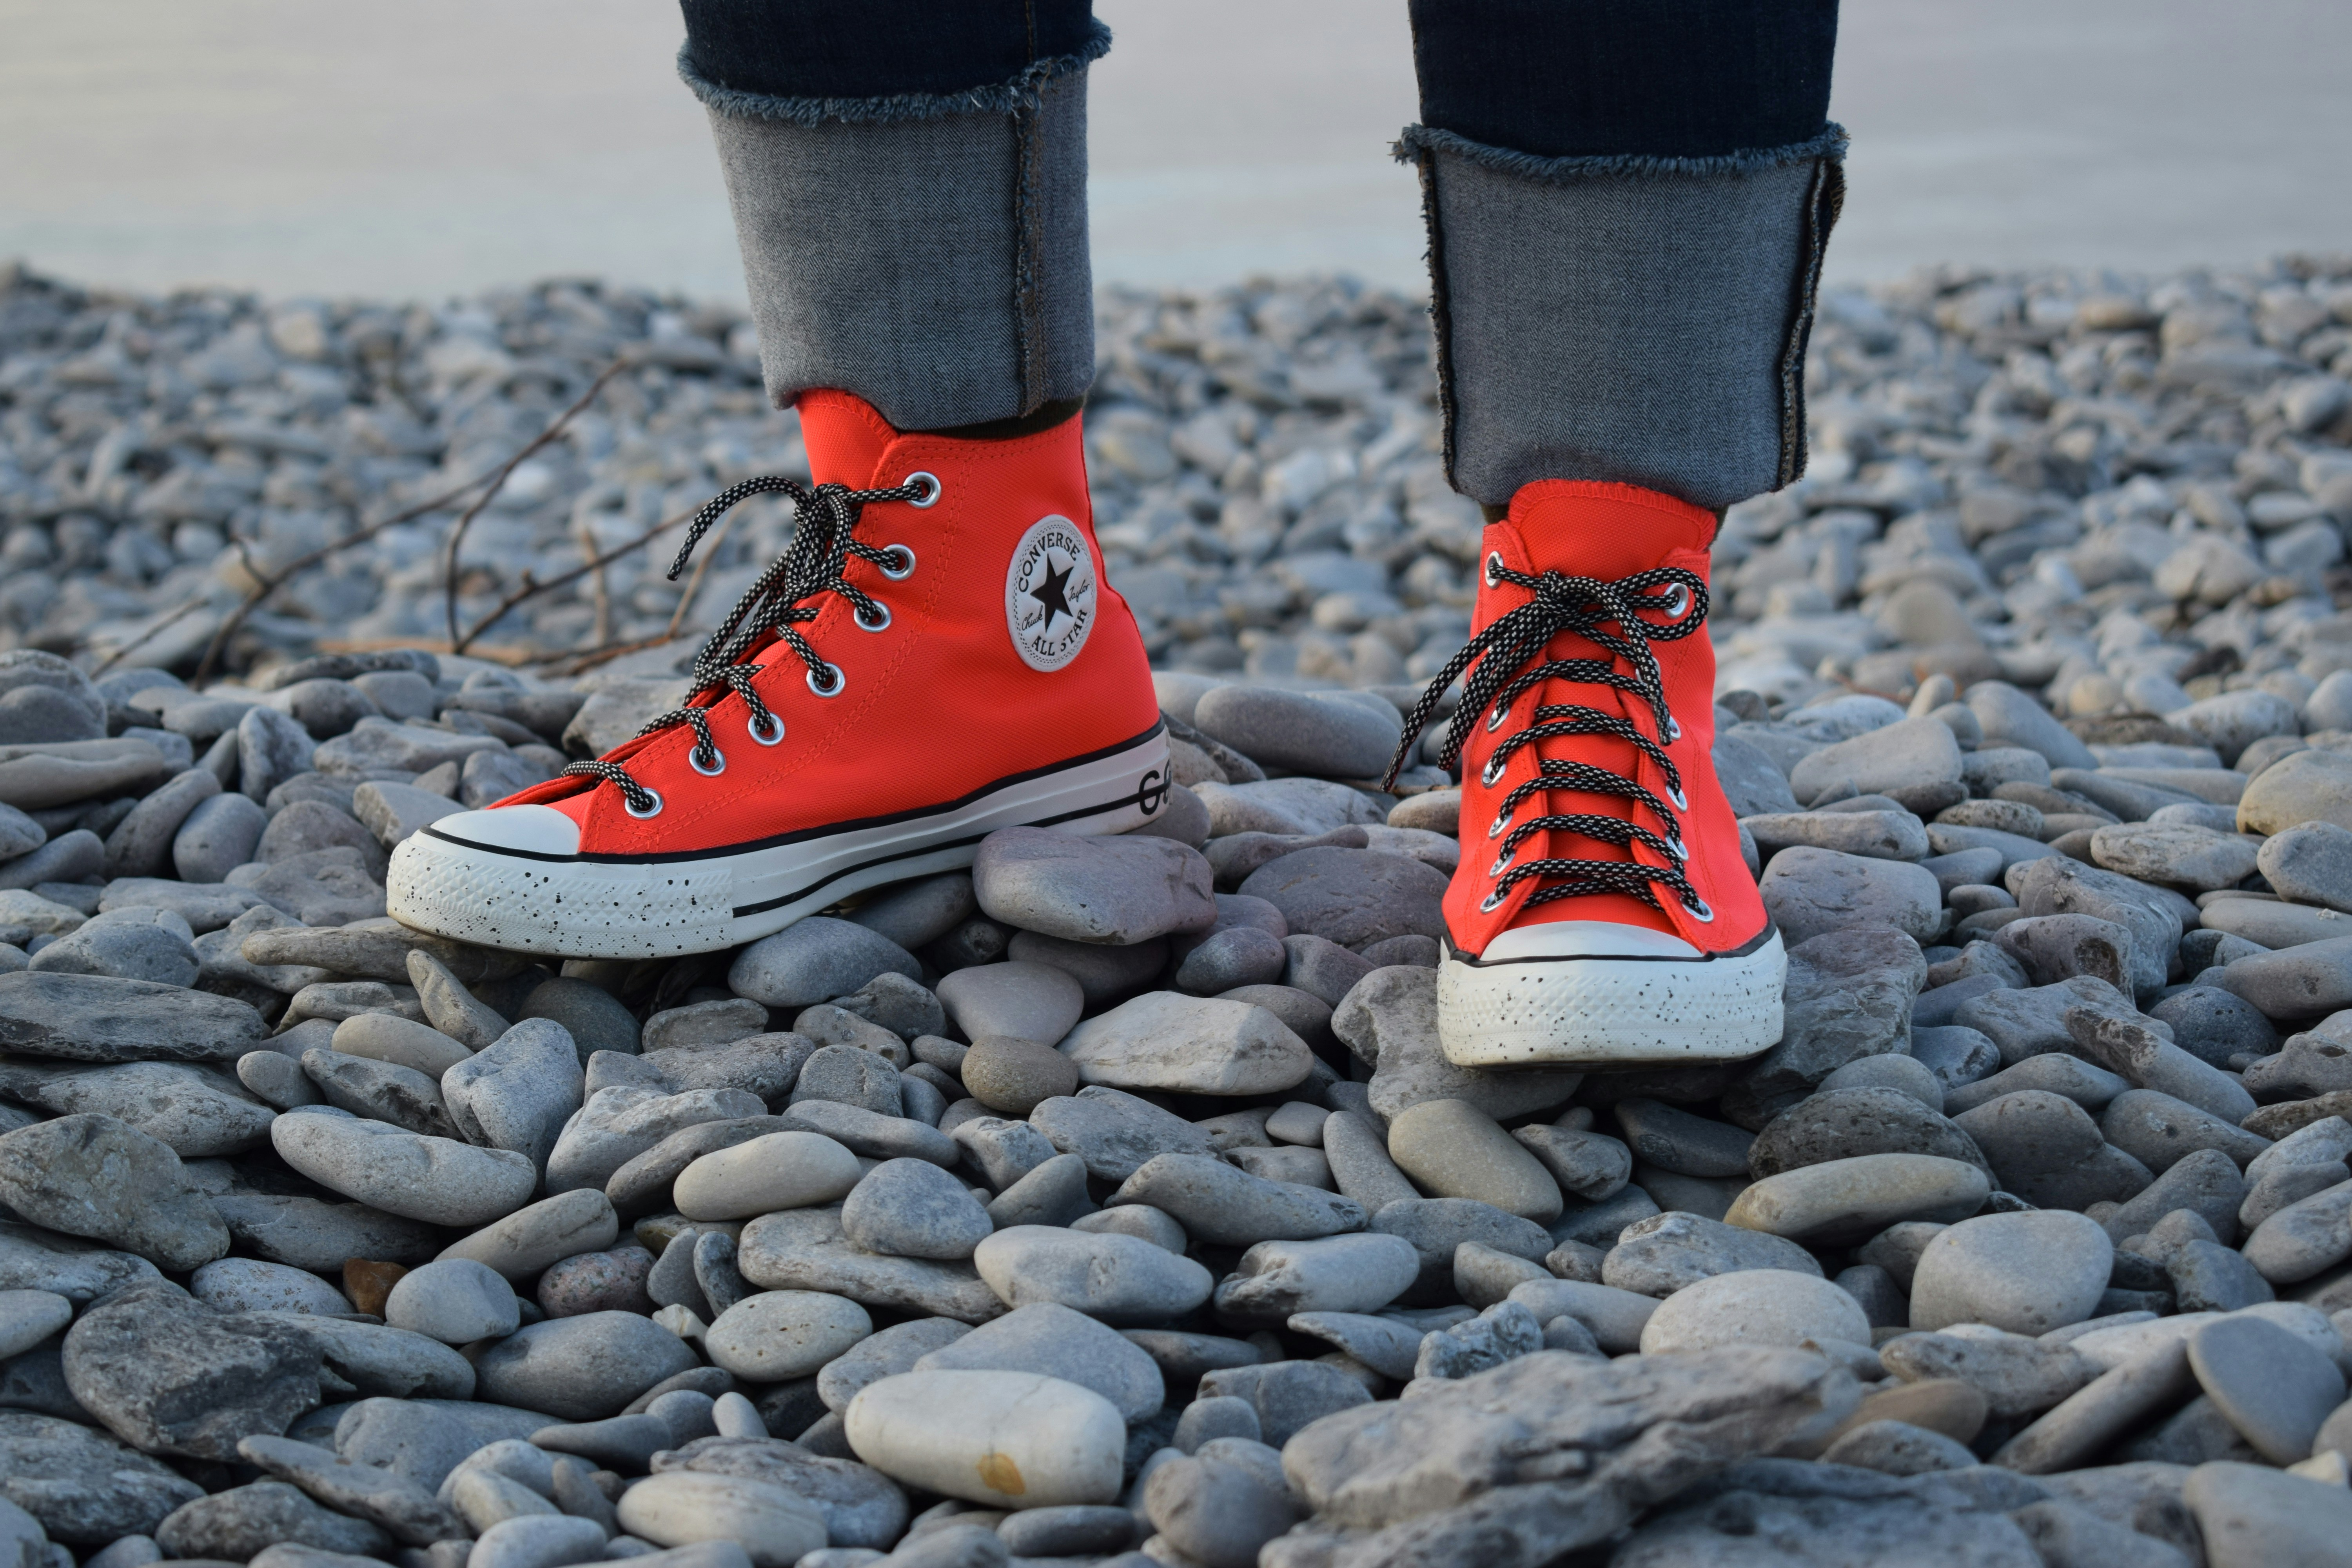Footwear: (324, 397, 1214, 970), (1412, 465, 1804, 1088)
